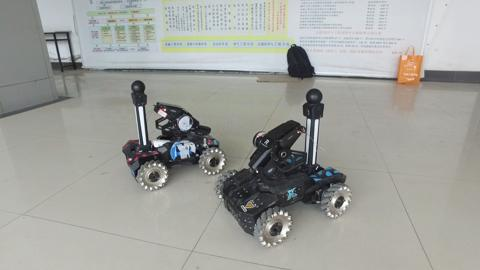chariot: (214, 82, 356, 253), (106, 78, 226, 198)
